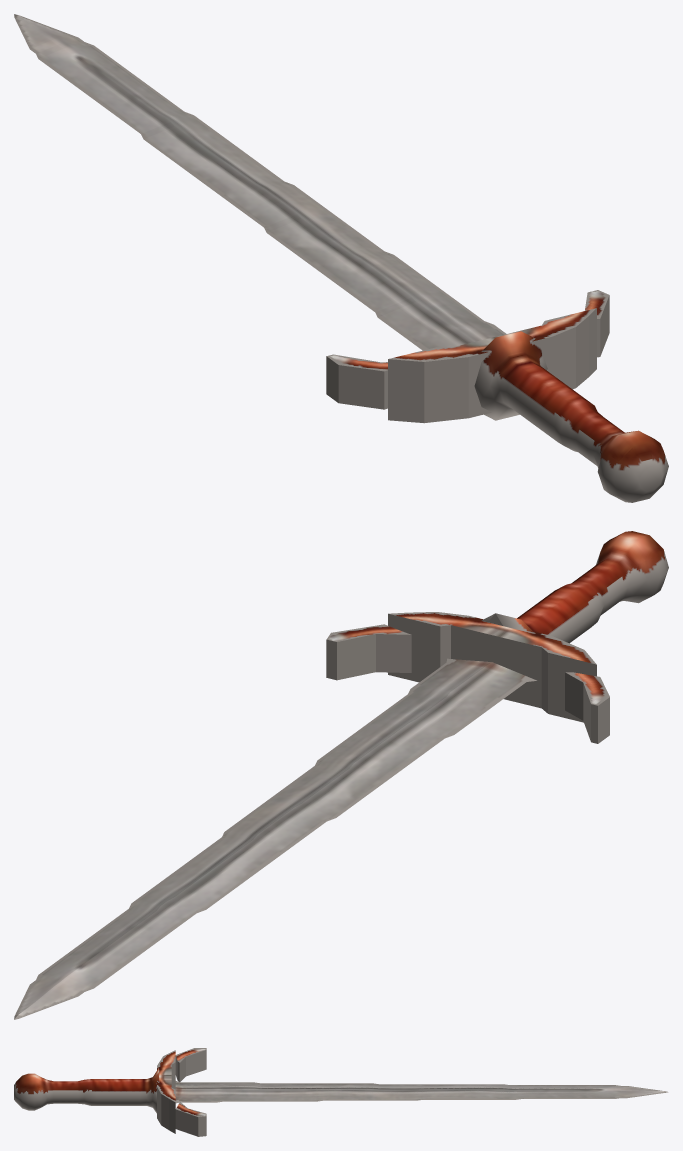
Rendered from item_mm9_10012.glb.
3 views of the same model, one above another, from view 1: azimuth 30°, elevation 25°; view 2: azimuth 150°, elevation 25°; view 3: azimuth 270°, elevation 25° (orthographic). The views are drawn at different scales.
Visible parts, largest first — view 1: d10012; view 2: d10012; view 3: d10012.
Boxes of the visible parts, x1,y1,x2,y2 form: d10012: (14,14,668,502); d10012: (14,531,668,1019); d10012: (14,1048,668,1136).
Size of the model in its own units: 35.55 by 10.27 by 142.
1 material, 1 textured.
